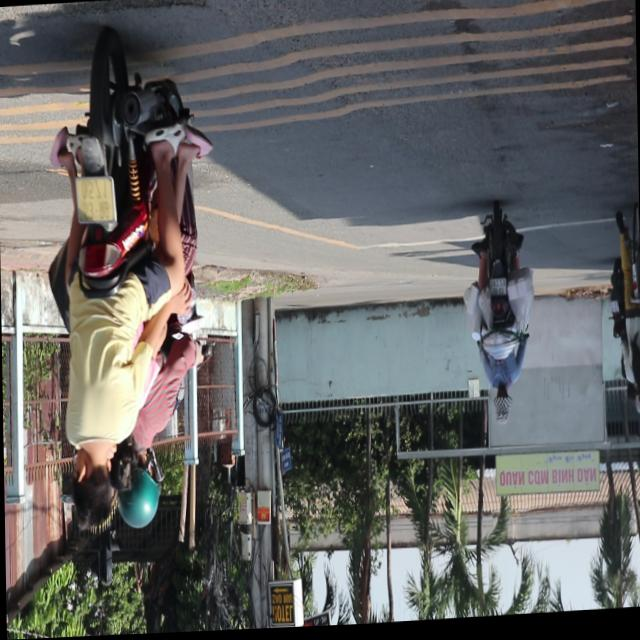helmet: (110, 441, 163, 534)
licenseplate: (36, 27, 210, 540), (461, 209, 535, 434)
motorcyclist: (66, 447, 113, 532), (489, 392, 510, 430)
nohelmet: (73, 177, 112, 225), (488, 282, 504, 301)
